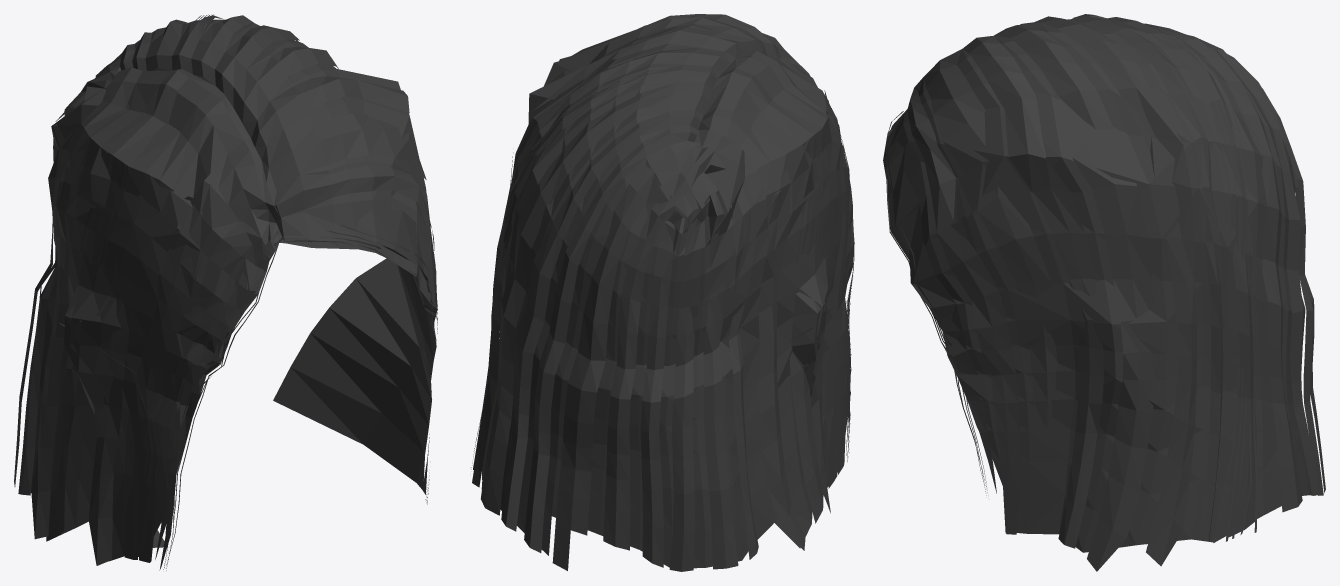
Rendered from hair.glb.
The picture shows the model from 3 angles, left to right: view 1: azimuth 30°, elevation 25°; view 2: azimuth 150°, elevation 25°; view 3: azimuth 270°, elevation 25°; orthographic projection. The views are drawn at different scales.
Visible parts, largest first — view 1: geometry_0; view 2: geometry_0; view 3: geometry_0.
Part boxes in pixels (x1,y1,x2,y2): geometry_0: [14, 14, 437, 570]; geometry_0: [471, 14, 854, 571]; geometry_0: [883, 14, 1325, 571].
Size of the model in its own units: 0.1136 by 0.1517 by 0.1288.
Materials: 1 (1 with a texture image).
